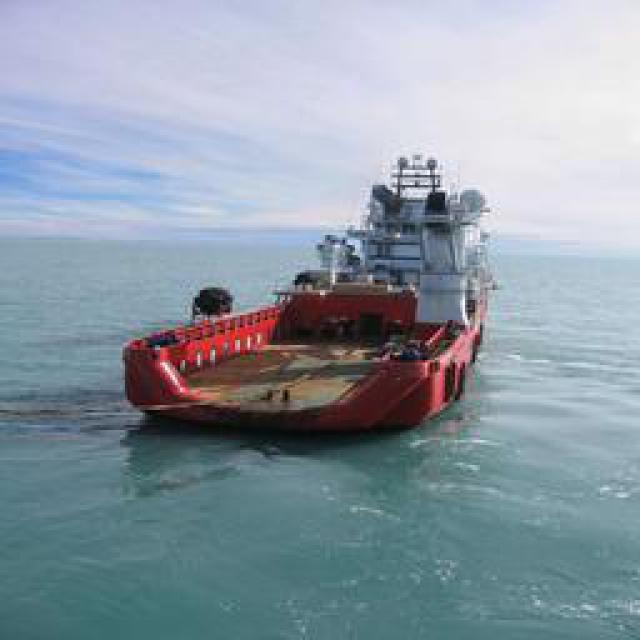Ship: (129, 150, 499, 443)
